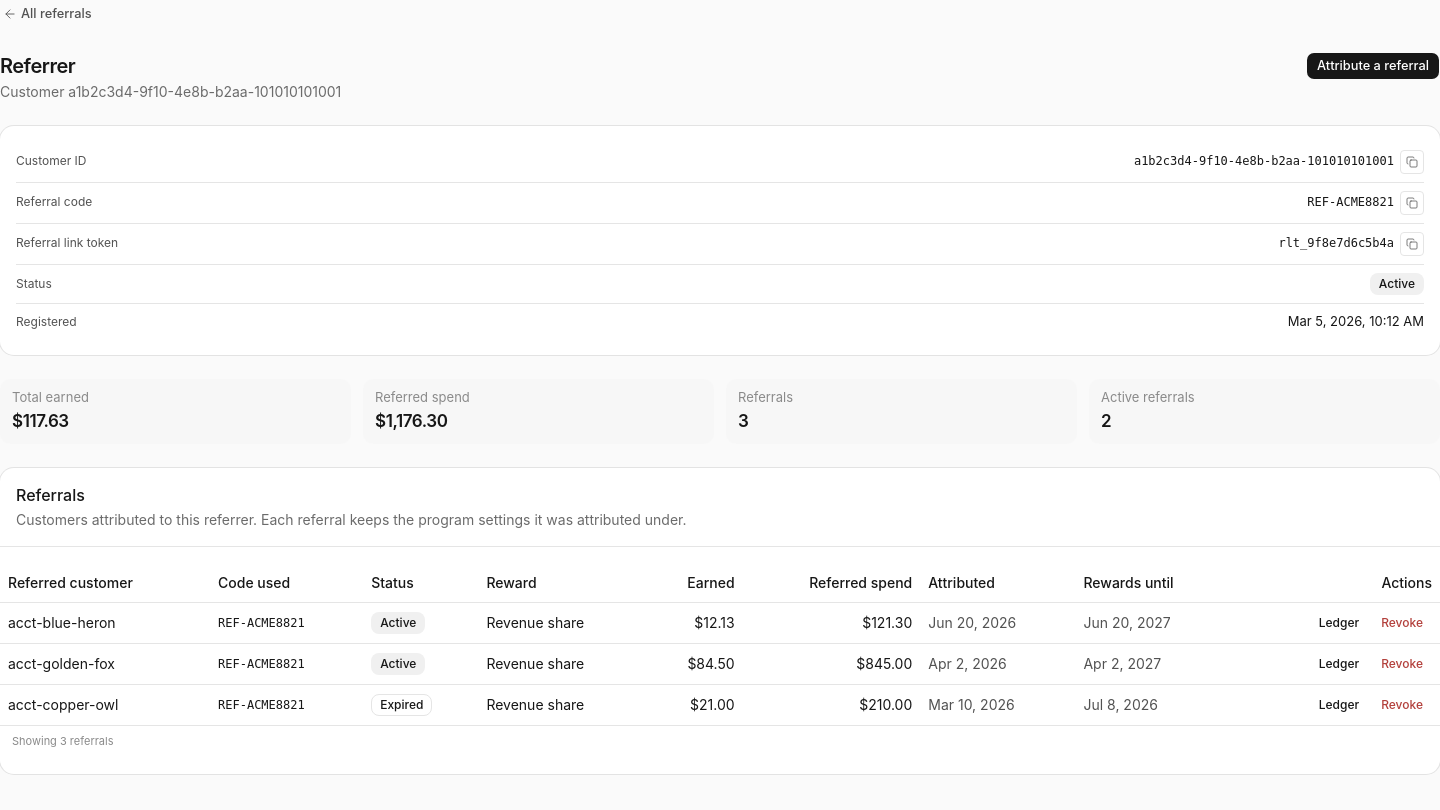
Test: ReferrerDetailPage › revokes a referral through the destructive confirm
The width and height of the screenshot is (1440, 810).
Check: the text "acct-golden-fox" is shown, box 0,644 -> 210,685
Check: the text "Revoked" is not shown
What coordinates should you click on to do the following:
click the button "Revoke" in the row of "acct-blue-heron"
I would click on:
 (1402, 623)
Its box is 1372,611 -> 1432,635.
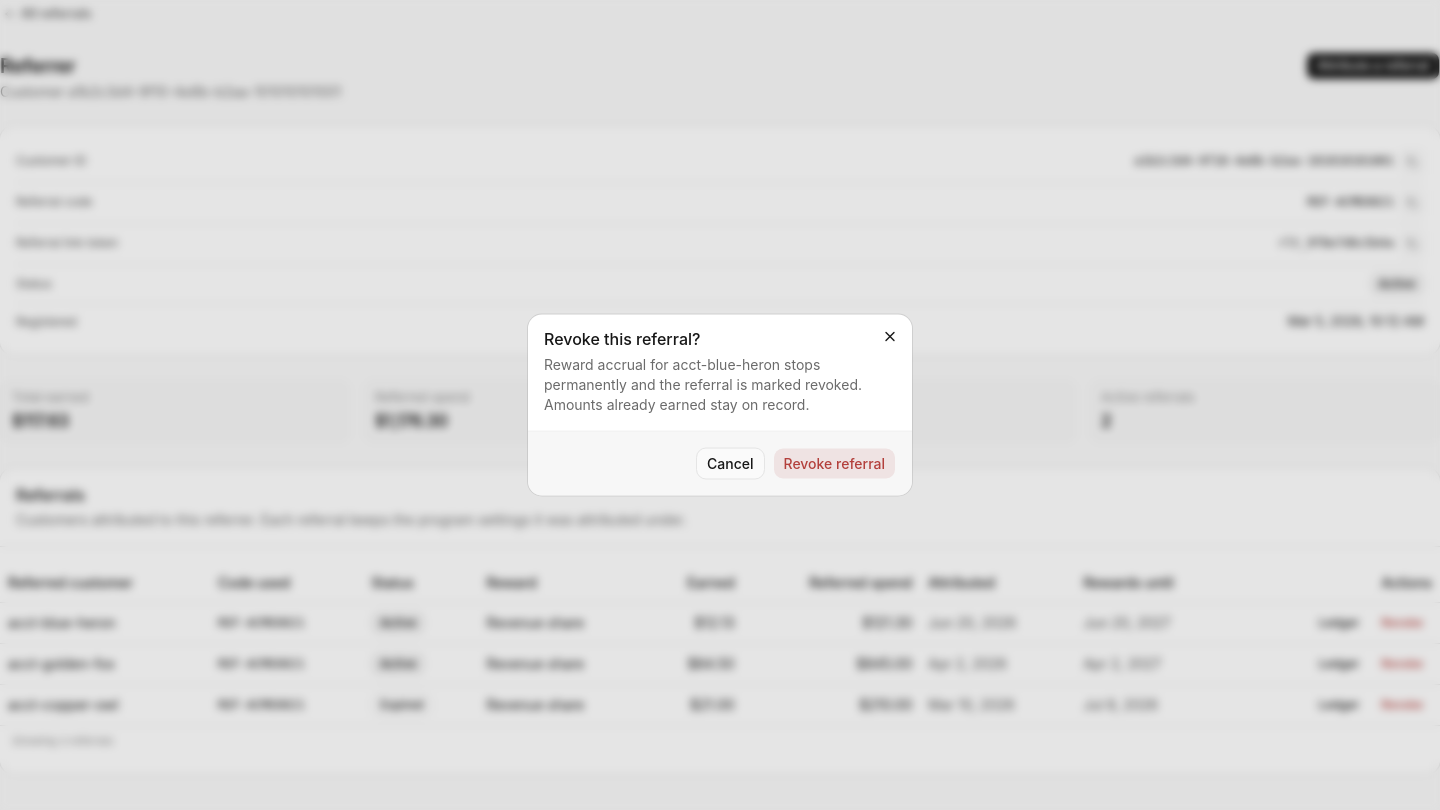
Check: the heading "Revoke this referral?" is shown, box 544,328 -> 700,348
What coordinates should you click on to do the following:
click the button "Revoke referral"
I would click on:
 (834, 464)
Its box is 772,448 -> 896,480.
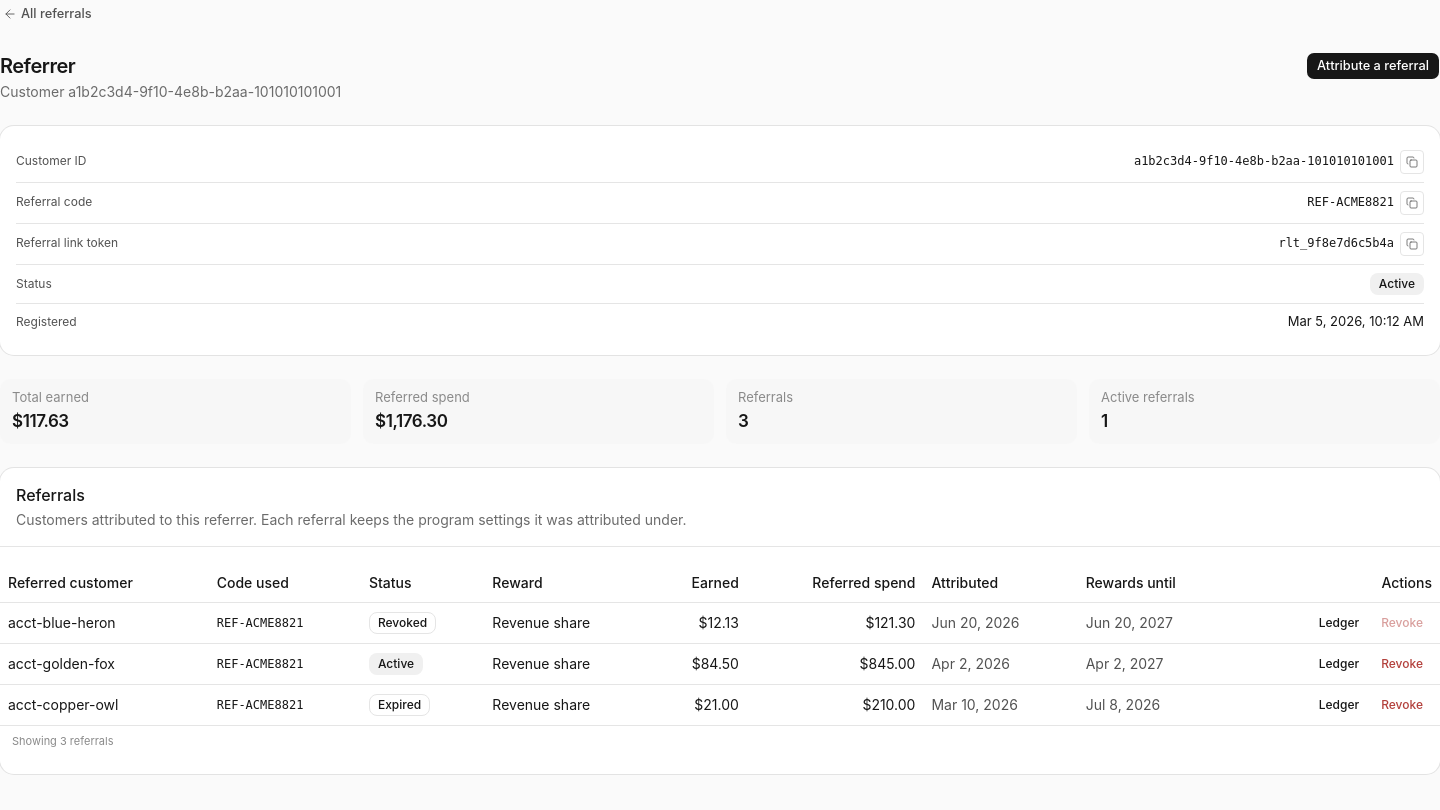
Check: the text "Revoked" is shown, box 369,612 -> 436,634
